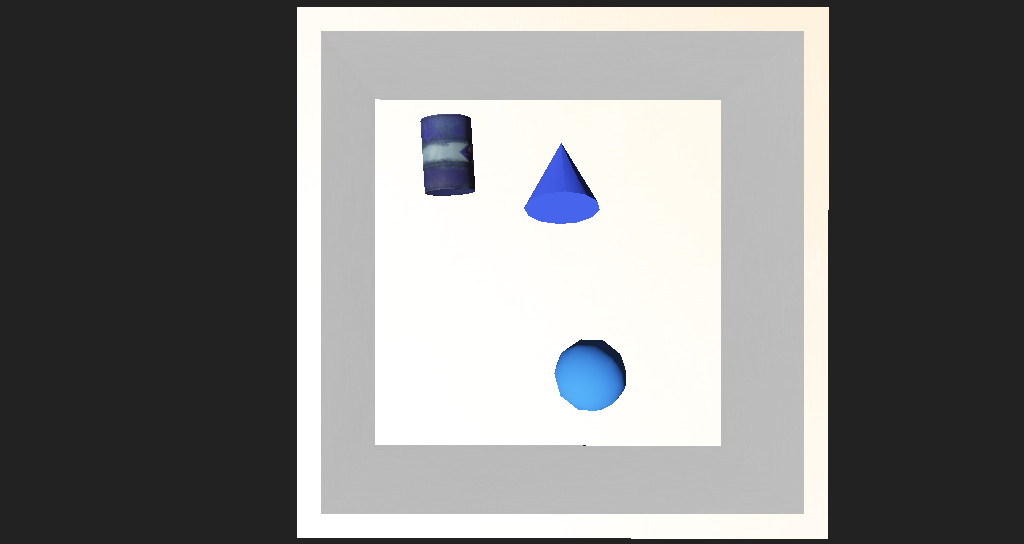cone: (391, 172, 445, 220)
cylinder: (488, 172, 549, 239)
sphere: (505, 305, 573, 353)
